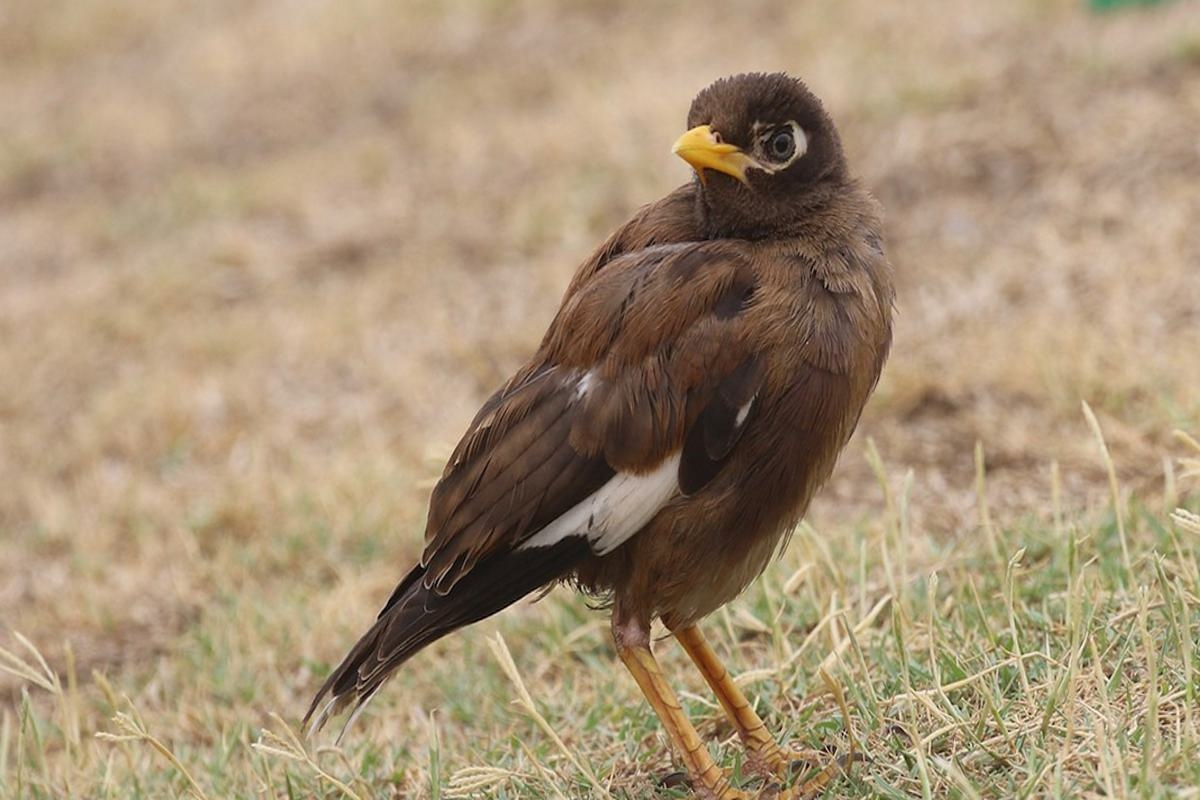myna: (491, 86, 880, 744)
